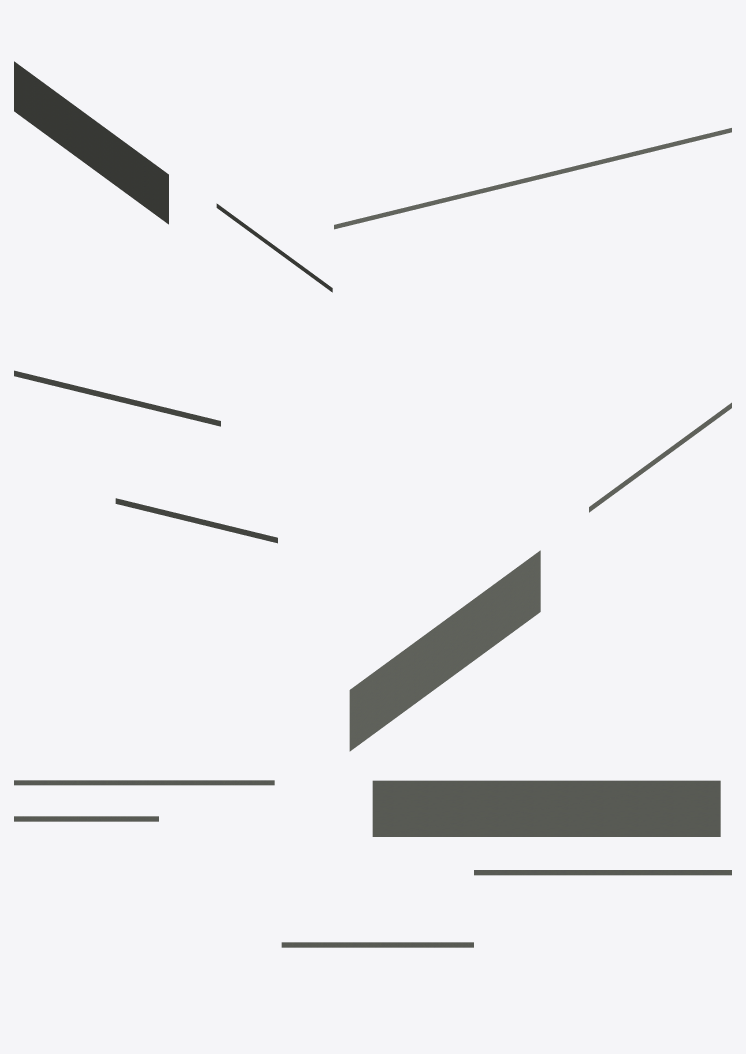
The model's file is kd_stage_135c43_4_20.glb.
3 views of the same model, one above another, from view 1: azimuth 30°, elevation 25°; view 2: azimuth 150°, elevation 25°; view 3: azimuth 270°, elevation 25° (orthographic). The views are drawn at different scales.
Visible parts, largest first — view 1: kd_stage_135c43_4_20; view 2: kd_stage_135c43_4_20; view 3: kd_stage_135c43_4_20.
Boxes of the visible parts, left/top/right/bottom form: kd_stage_135c43_4_20: left=14, top=61, right=731, bottom=292; kd_stage_135c43_4_20: left=14, top=370, right=731, bottom=751; kd_stage_135c43_4_20: left=14, top=780, right=731, bottom=947.
Bounding box in the file's own units: 5.32 × 0.569 × 6.3.
Materials: 1 (1 with a texture image).
